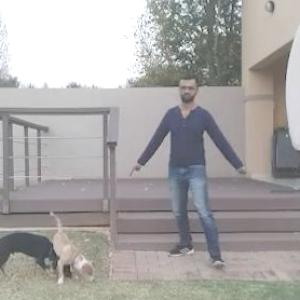land: (128, 68, 284, 281)
